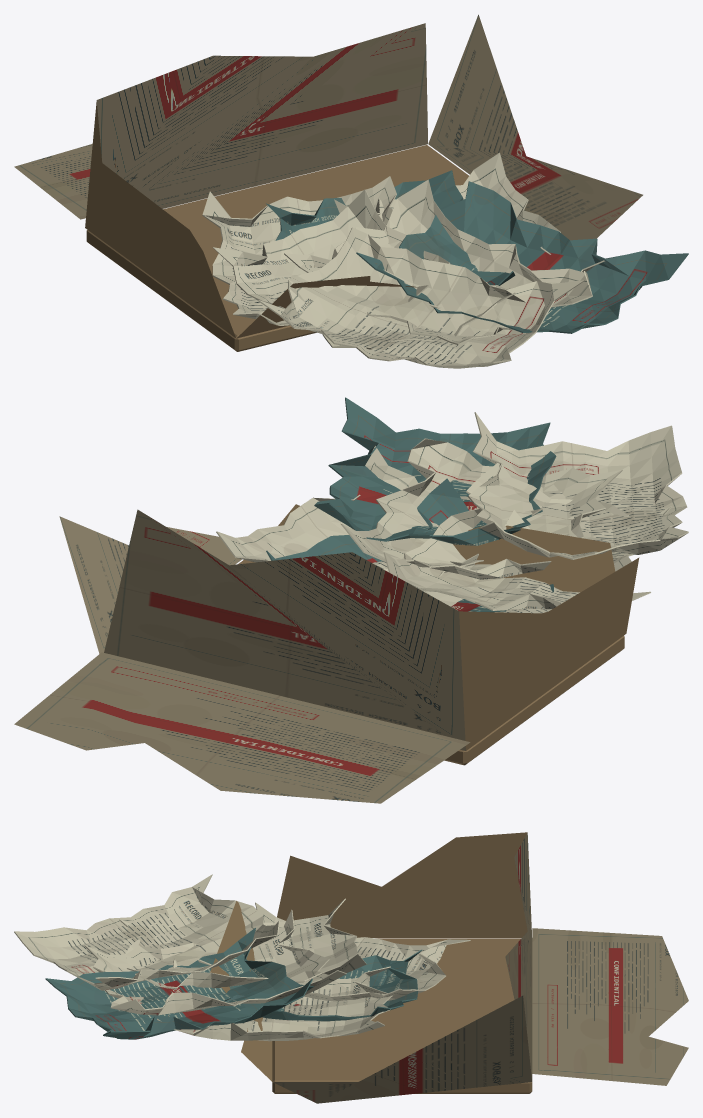
The model's file is DS_Clue_ArchiveBox_Damaged_V01.fbx.
3 views of the same model, one above another, from view 1: azimuth 30°, elevation 25°; view 2: azimuth 150°, elevation 25°; view 3: azimuth 270°, elevation 25° (orthographic). The views are drawn at different scales.
Visible parts, largest first — view 1: DS_Clue_ArchiveBox_Damaged_V01; view 2: DS_Clue_ArchiveBox_Damaged_V01; view 3: DS_Clue_ArchiveBox_Damaged_V01.
Boxes of the visible parts, bbox=[...] form: DS_Clue_ArchiveBox_Damaged_V01: bbox=[14, 14, 688, 368]; DS_Clue_ArchiveBox_Damaged_V01: bbox=[14, 397, 688, 803]; DS_Clue_ArchiveBox_Damaged_V01: bbox=[14, 832, 688, 1103].
Bounding box in the file's own units: 102 × 35.25 × 151.
Materials: 4 (3 with a texture image).
